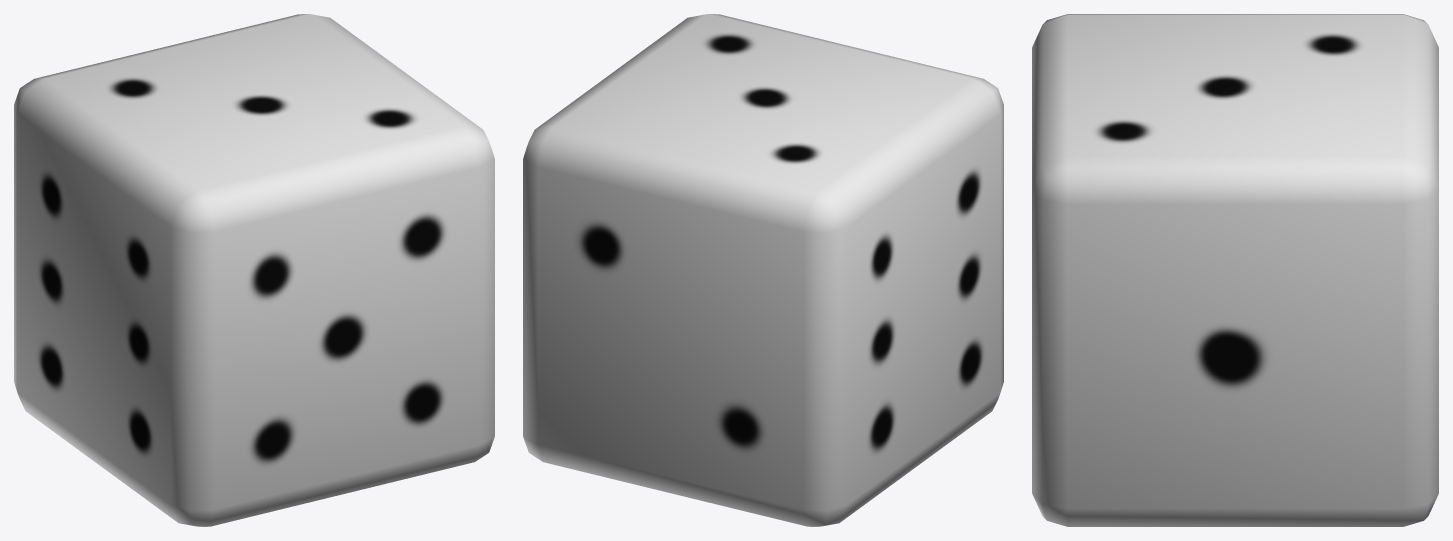
Rendered from dice.fbx.
3 renders of one model, left to right at view 1: azimuth 30°, elevation 25°; view 2: azimuth 150°, elevation 25°; view 3: azimuth 270°, elevation 25°, orthographic. The views are drawn at different scales.
Visible parts, largest first — view 1: Dice; view 2: Dice; view 3: Dice.
Boxes of the visible parts, left/top/right/bottom form: Dice: left=14, top=14, right=494, bottom=526; Dice: left=523, top=14, right=1003, bottom=526; Dice: left=1032, top=14, right=1438, bottom=526.
Bounding box in the file's own units: 2 × 2 × 2.
